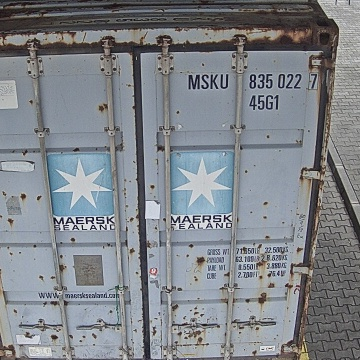serial_id: (187, 73, 317, 90)
